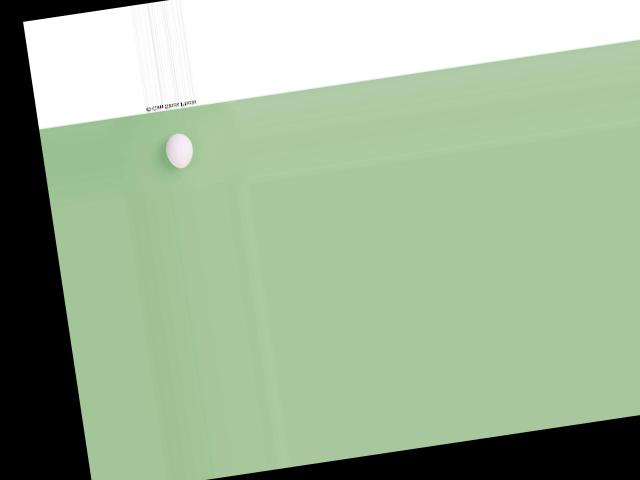egg: (164, 131, 195, 169)
